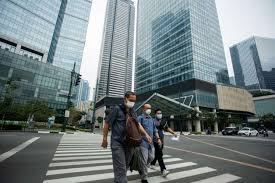mask: (123, 91, 134, 108), (144, 100, 152, 115), (155, 108, 163, 120)
